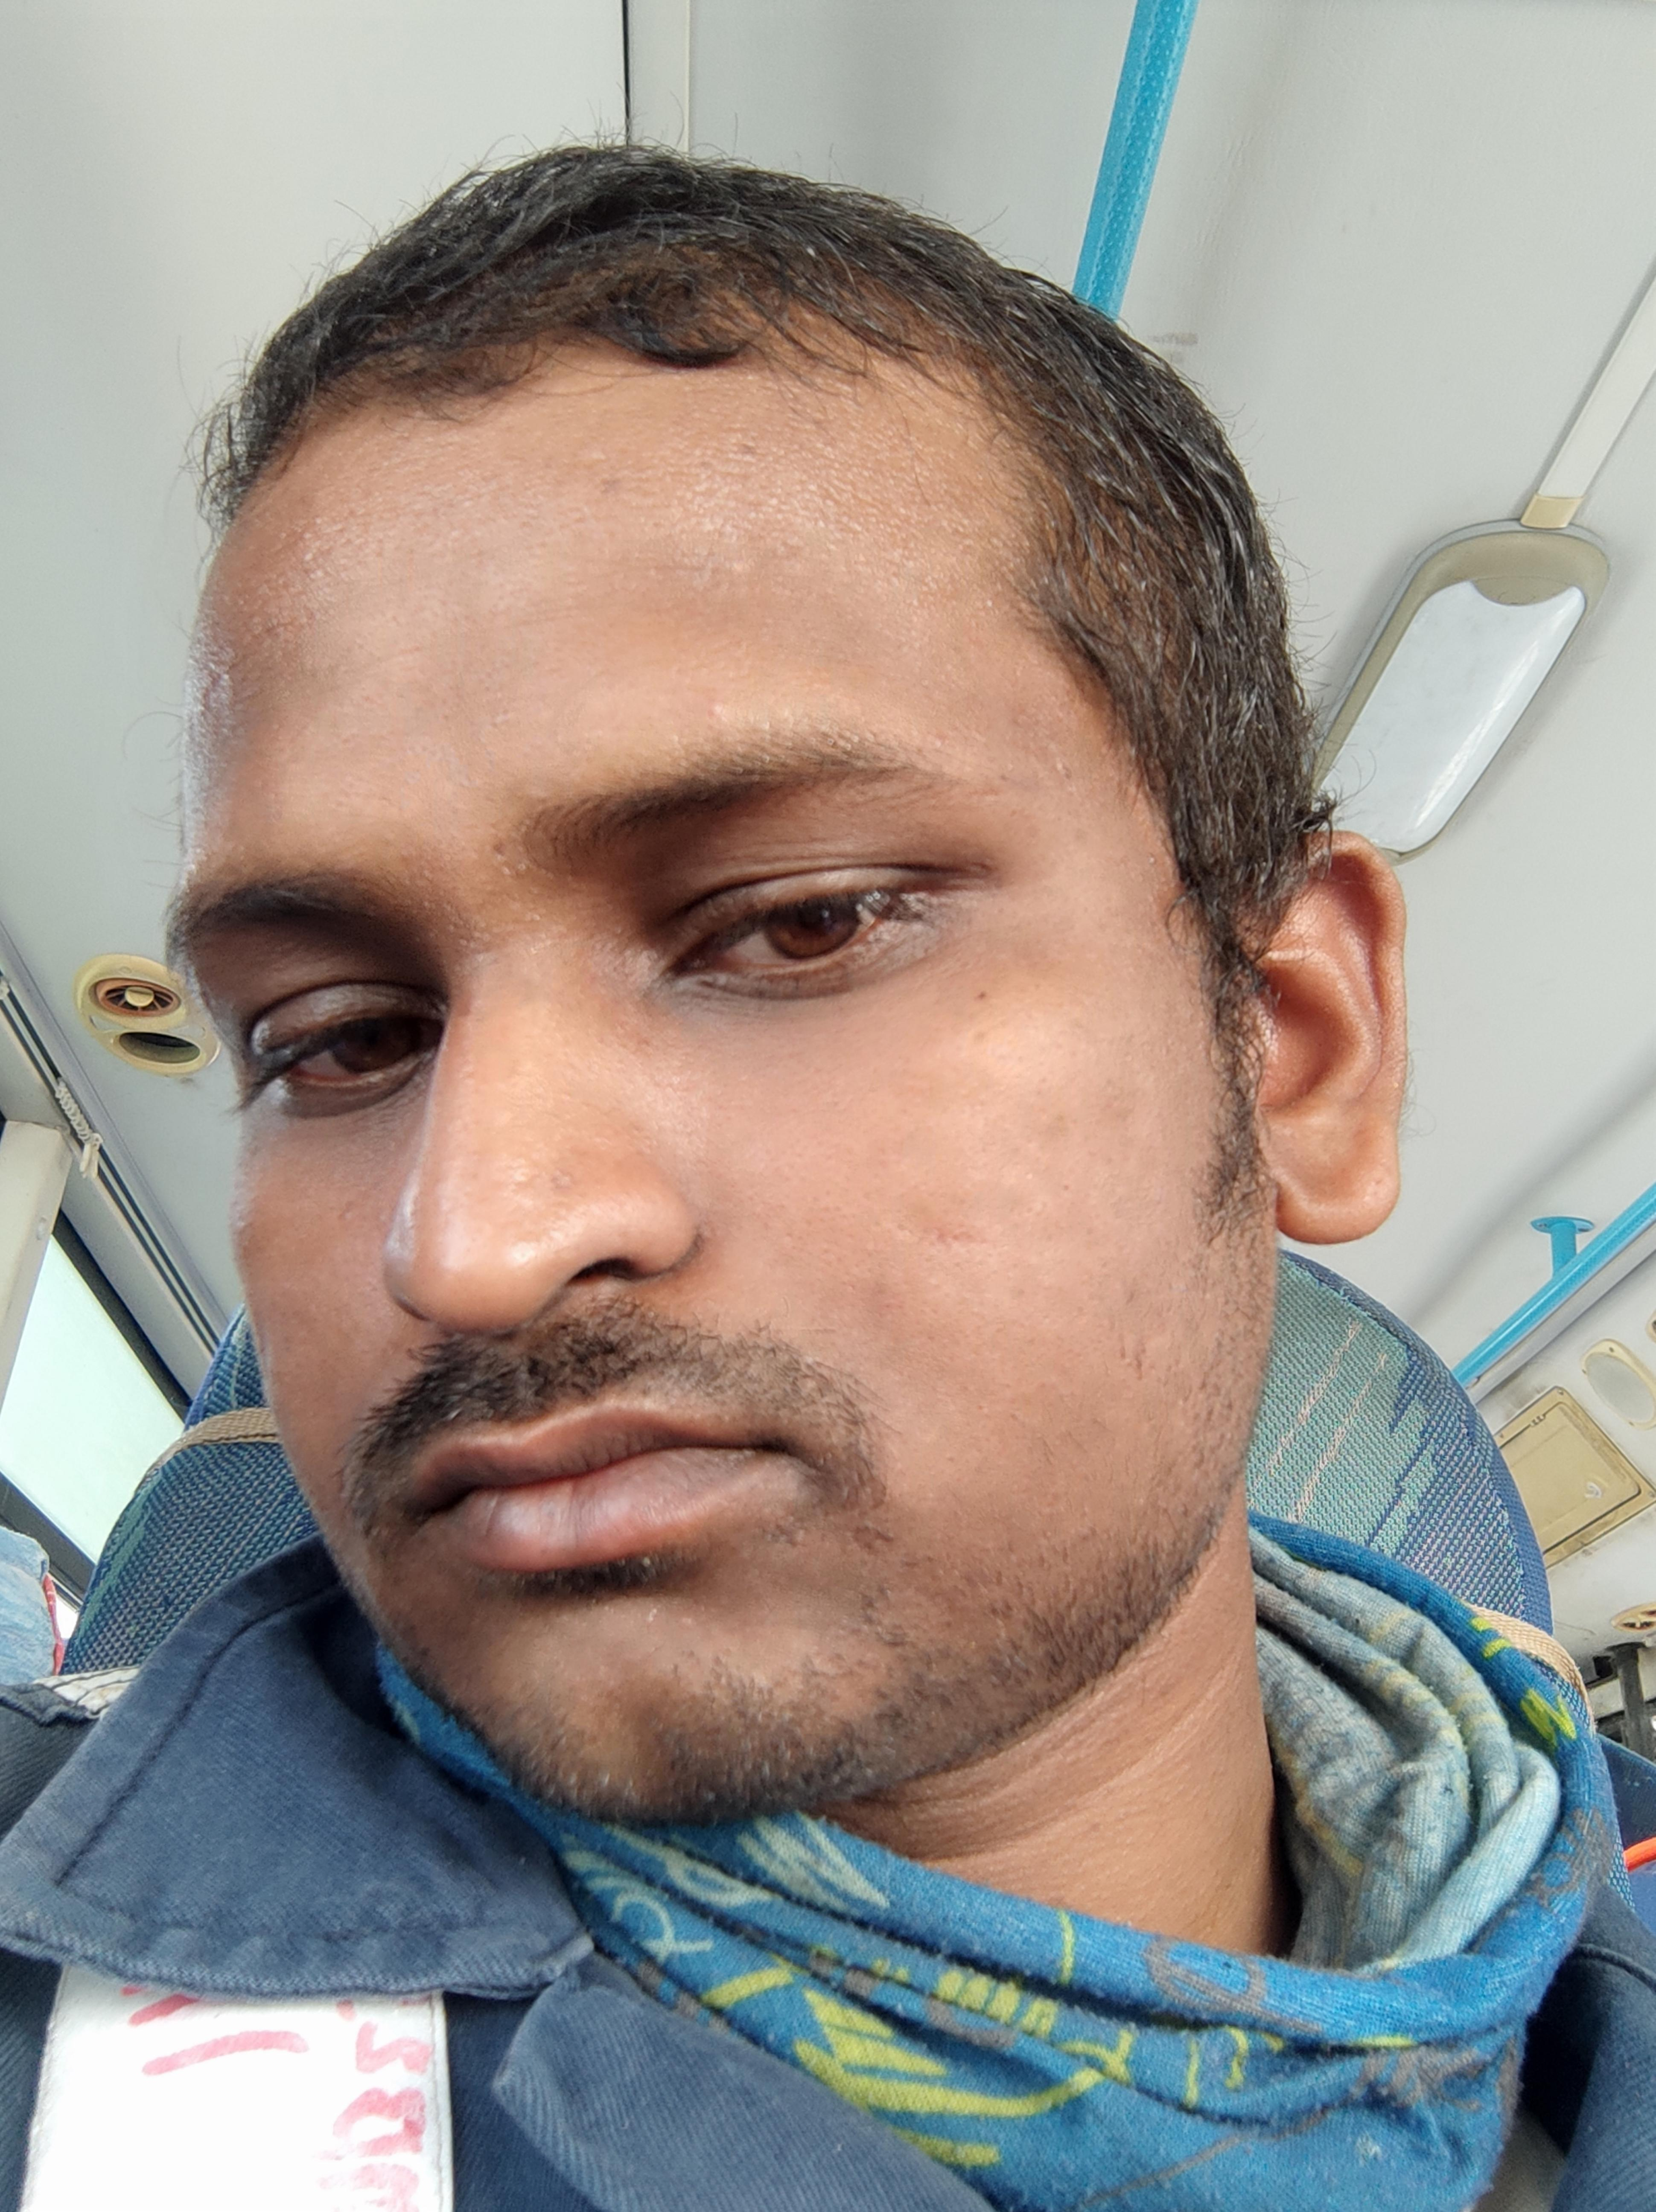Acne: (541, 1162, 583, 1203)
Wrinkles: (306, 506, 591, 614), (550, 555, 764, 583), (482, 610, 584, 642), (331, 640, 437, 668)
